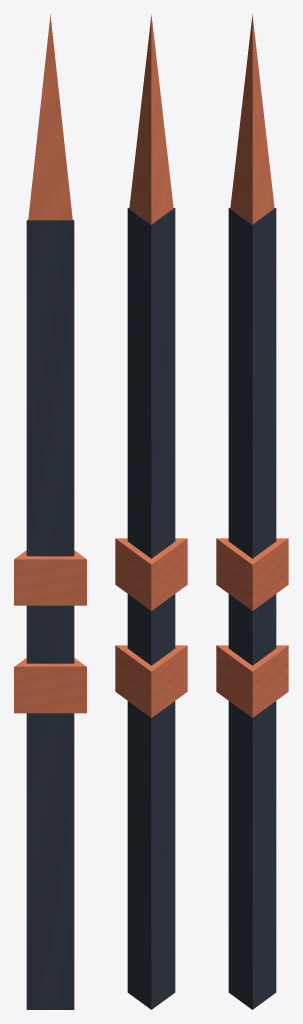
Rendered from atlas100-s021-a05.lod2.glb.
The picture shows the model from 3 angles, left to right: view 1: azimuth 90°, elevation 25°; view 2: azimuth 150°, elevation 25°; view 3: azimuth 270°, elevation 25°; orthographic projection.
Visible parts, largest first — view 1: atlas100-s021-a05:part-000, atlas100-s021-a05:part-004, atlas100-s021-a05:part-002, atlas100-s021-a05:part-003; view 2: atlas100-s021-a05:part-000, atlas100-s021-a05:part-004, atlas100-s021-a05:part-002, atlas100-s021-a05:part-003; view 3: atlas100-s021-a05:part-000, atlas100-s021-a05:part-004, atlas100-s021-a05:part-002, atlas100-s021-a05:part-003.
Part boxes in pixels (box(x1,y1,x2,y2)): atlas100-s021-a05:part-000: box(26, 220, 74, 1009); atlas100-s021-a05:part-004: box(28, 14, 72, 220); atlas100-s021-a05:part-002: box(14, 658, 86, 713); atlas100-s021-a05:part-003: box(14, 550, 86, 605); atlas100-s021-a05:part-000: box(127, 208, 175, 1009); atlas100-s021-a05:part-004: box(129, 14, 173, 224); atlas100-s021-a05:part-002: box(115, 645, 187, 717); atlas100-s021-a05:part-003: box(115, 538, 187, 610); atlas100-s021-a05:part-000: box(228, 208, 276, 1009); atlas100-s021-a05:part-004: box(230, 14, 274, 224); atlas100-s021-a05:part-002: box(216, 645, 288, 717); atlas100-s021-a05:part-003: box(216, 538, 288, 610).
Bounding box in the file's own units: 0.0868 × 1.51 × 0.1002.
2 materials, 2 textured.
